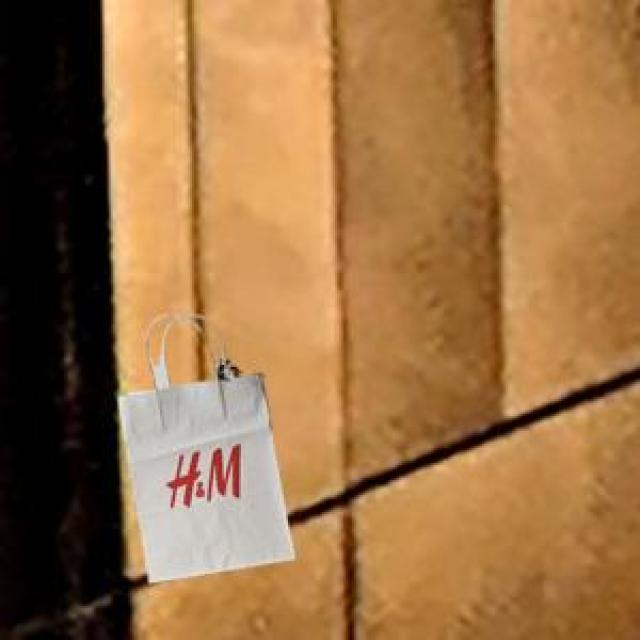paper: (115, 339, 290, 578)
